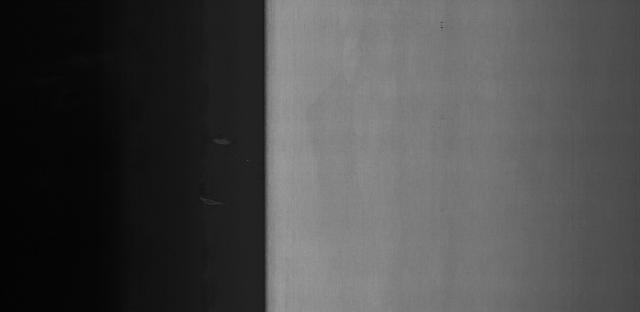inclusion: (437, 18, 447, 31)
